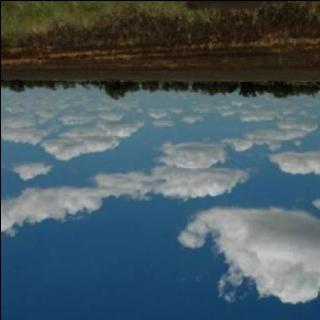Cumulus: (0, 89, 320, 320)
